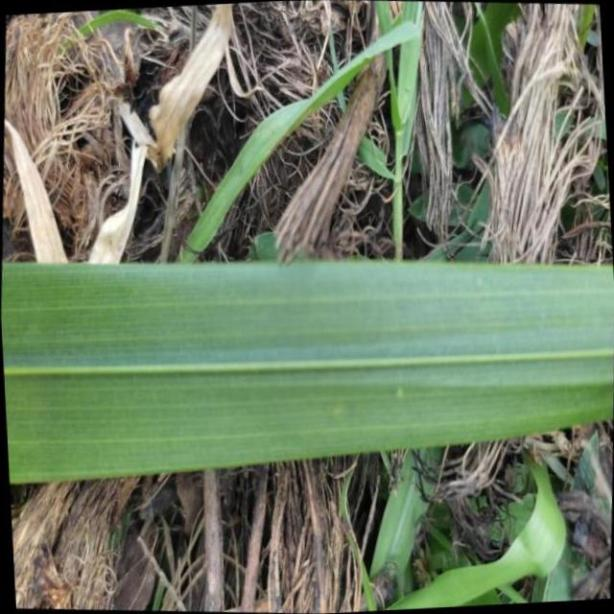Healthy: (3, 260, 614, 485)
